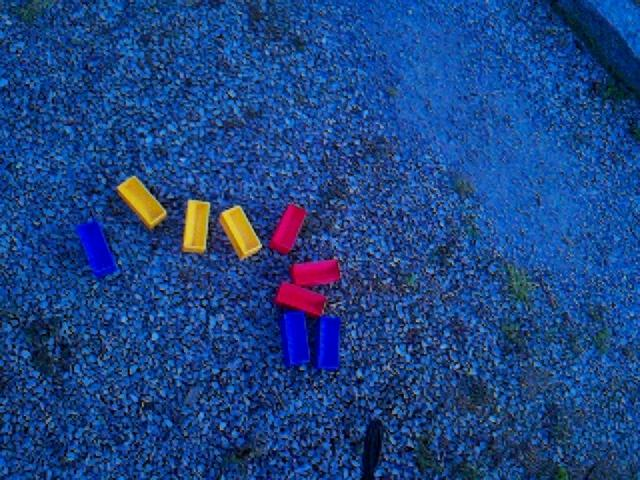blue: (76, 219, 118, 279), (279, 311, 311, 367), (317, 315, 342, 370)
red: (268, 204, 307, 255), (274, 281, 327, 318), (290, 258, 342, 287)
yellow: (116, 175, 167, 230), (219, 205, 263, 260), (182, 199, 211, 255)
